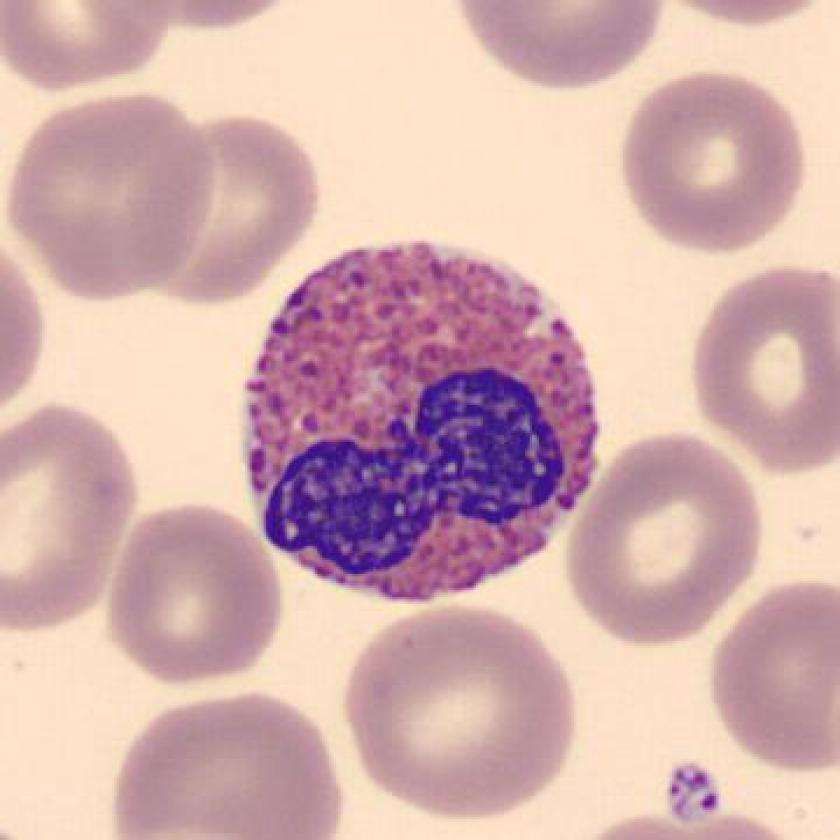eosinophil: (237, 230, 617, 617)
